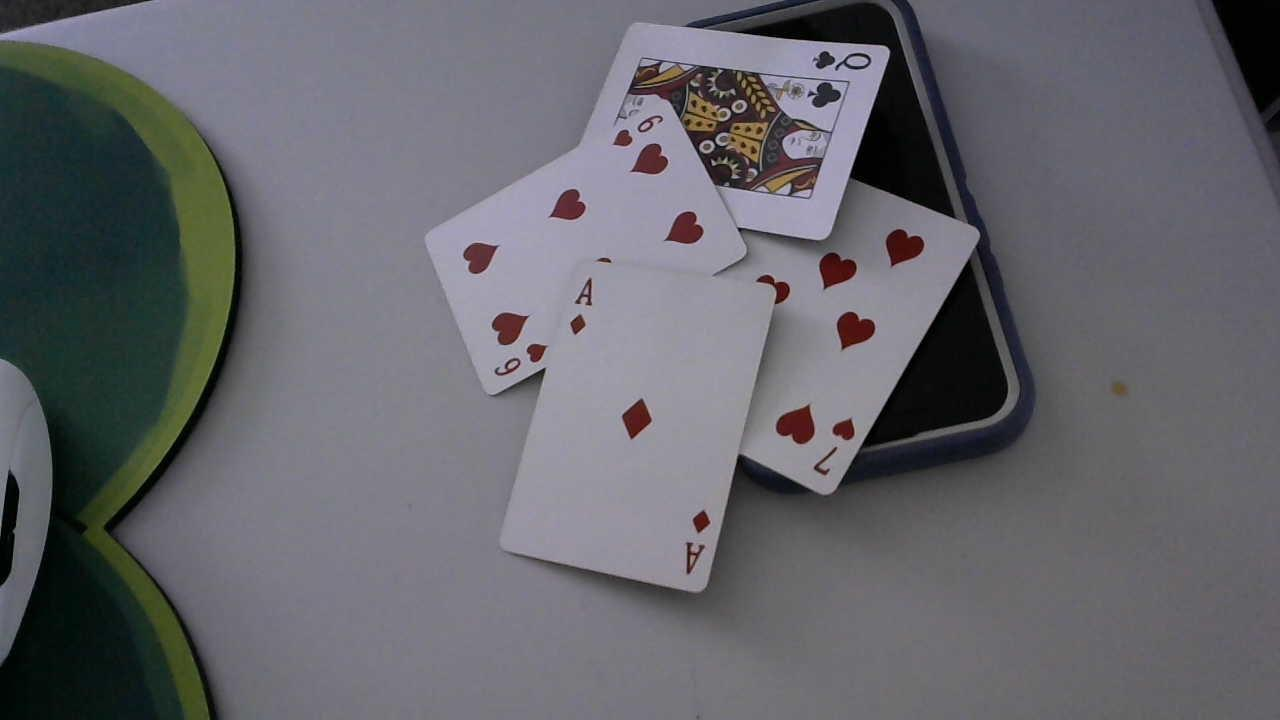6H: (489, 341, 550, 379), (608, 112, 665, 150)
7H: (812, 416, 860, 476)
AD: (683, 507, 710, 577), (569, 278, 596, 336)
QC: (809, 47, 876, 77)
